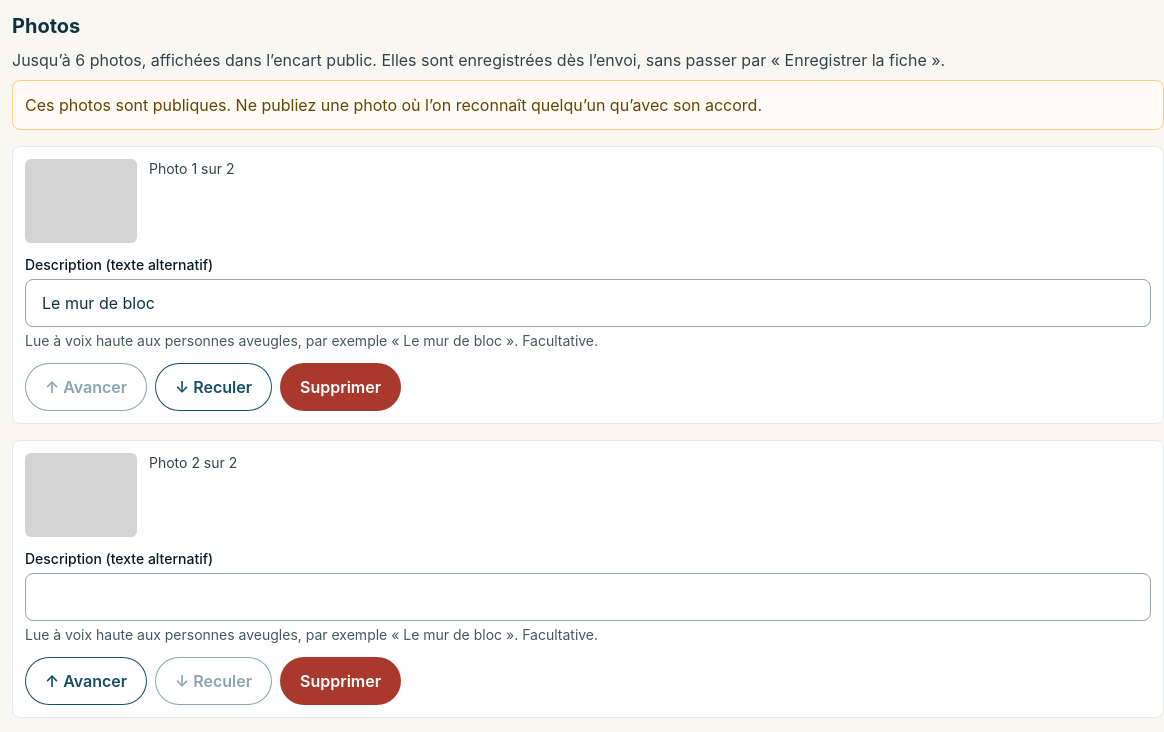
Scenario: OrganizationPhotosManager (ADR-090) › supprimer laisse un « Annuler » qui remet la photo à sa place
The image size is (1164, 732).
Step 1. Click the button "Supprimer" below "Photo 1 sur 2" → x=340, y=387, box [280,363,401,411]
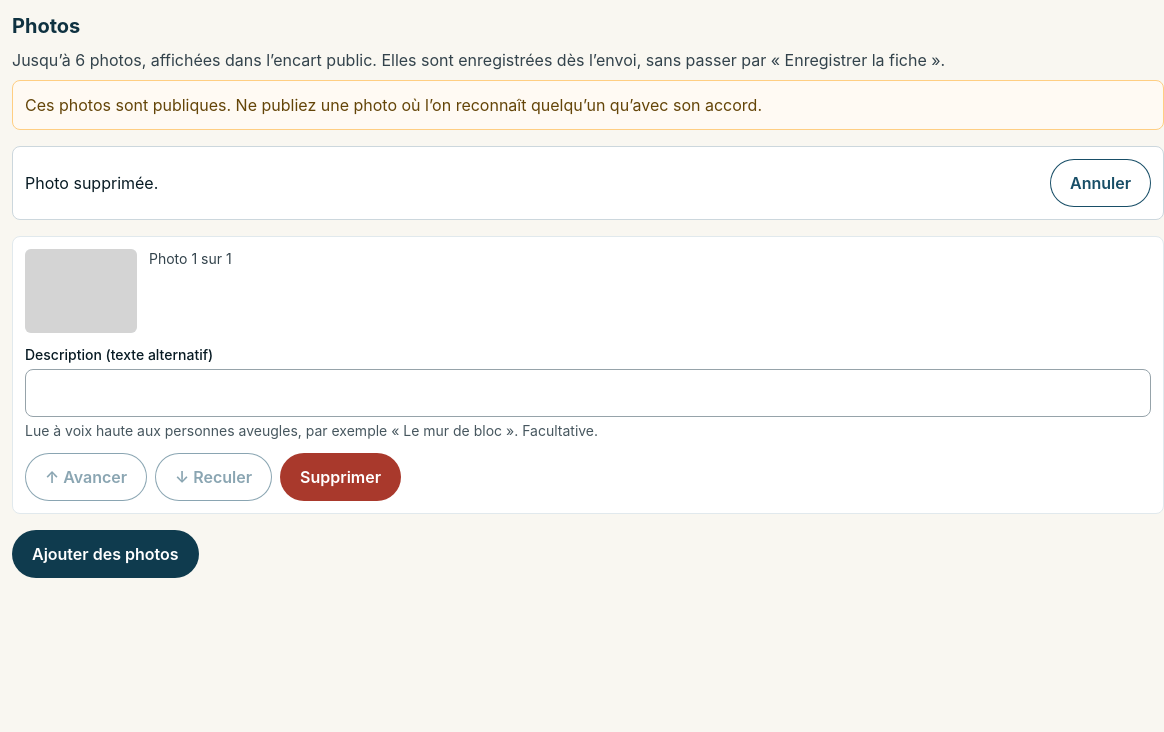
Result: the number of list items with test id "managed-photo" is 1 at [12,236,1163,514]
Result: the message with test id "photo-deleted" shows "Photo supprimée." at [25,173,158,193]
Step 2. Click the button "Annuler" → x=1100, y=183, box [1050,159,1151,207]
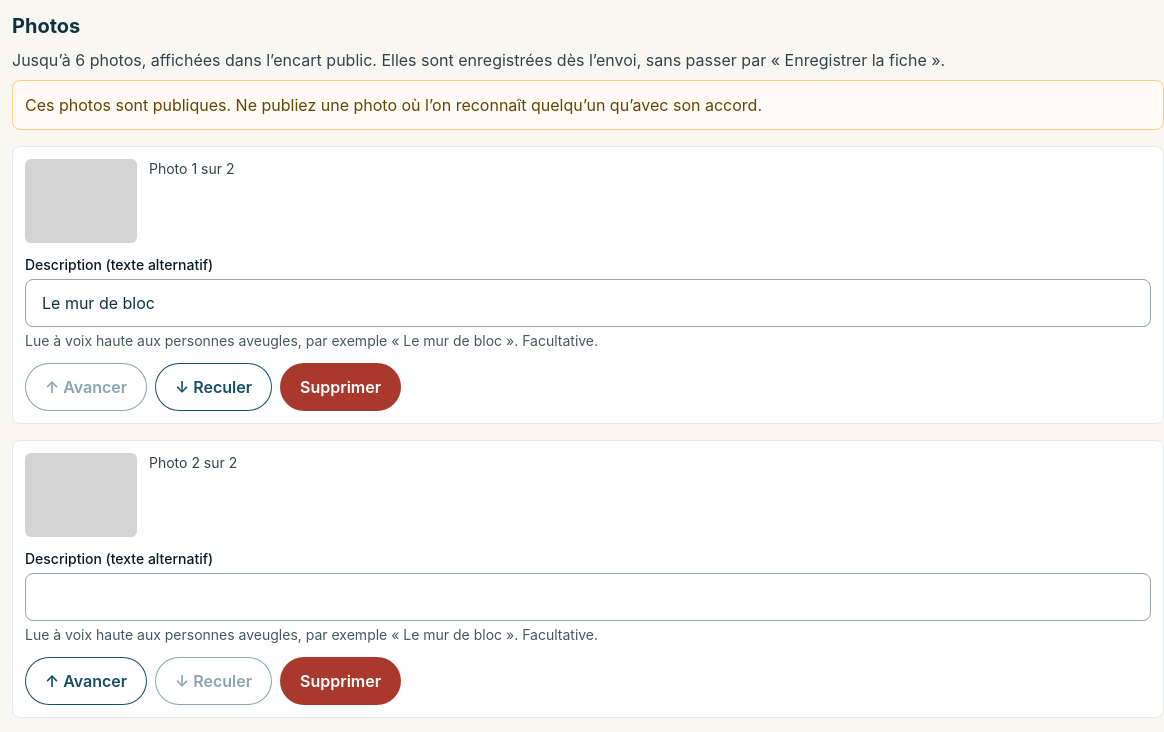
Result: the number of list items with test id "managed-photo" is 2 at [12,146,1163,424]; [12,440,1163,718]
